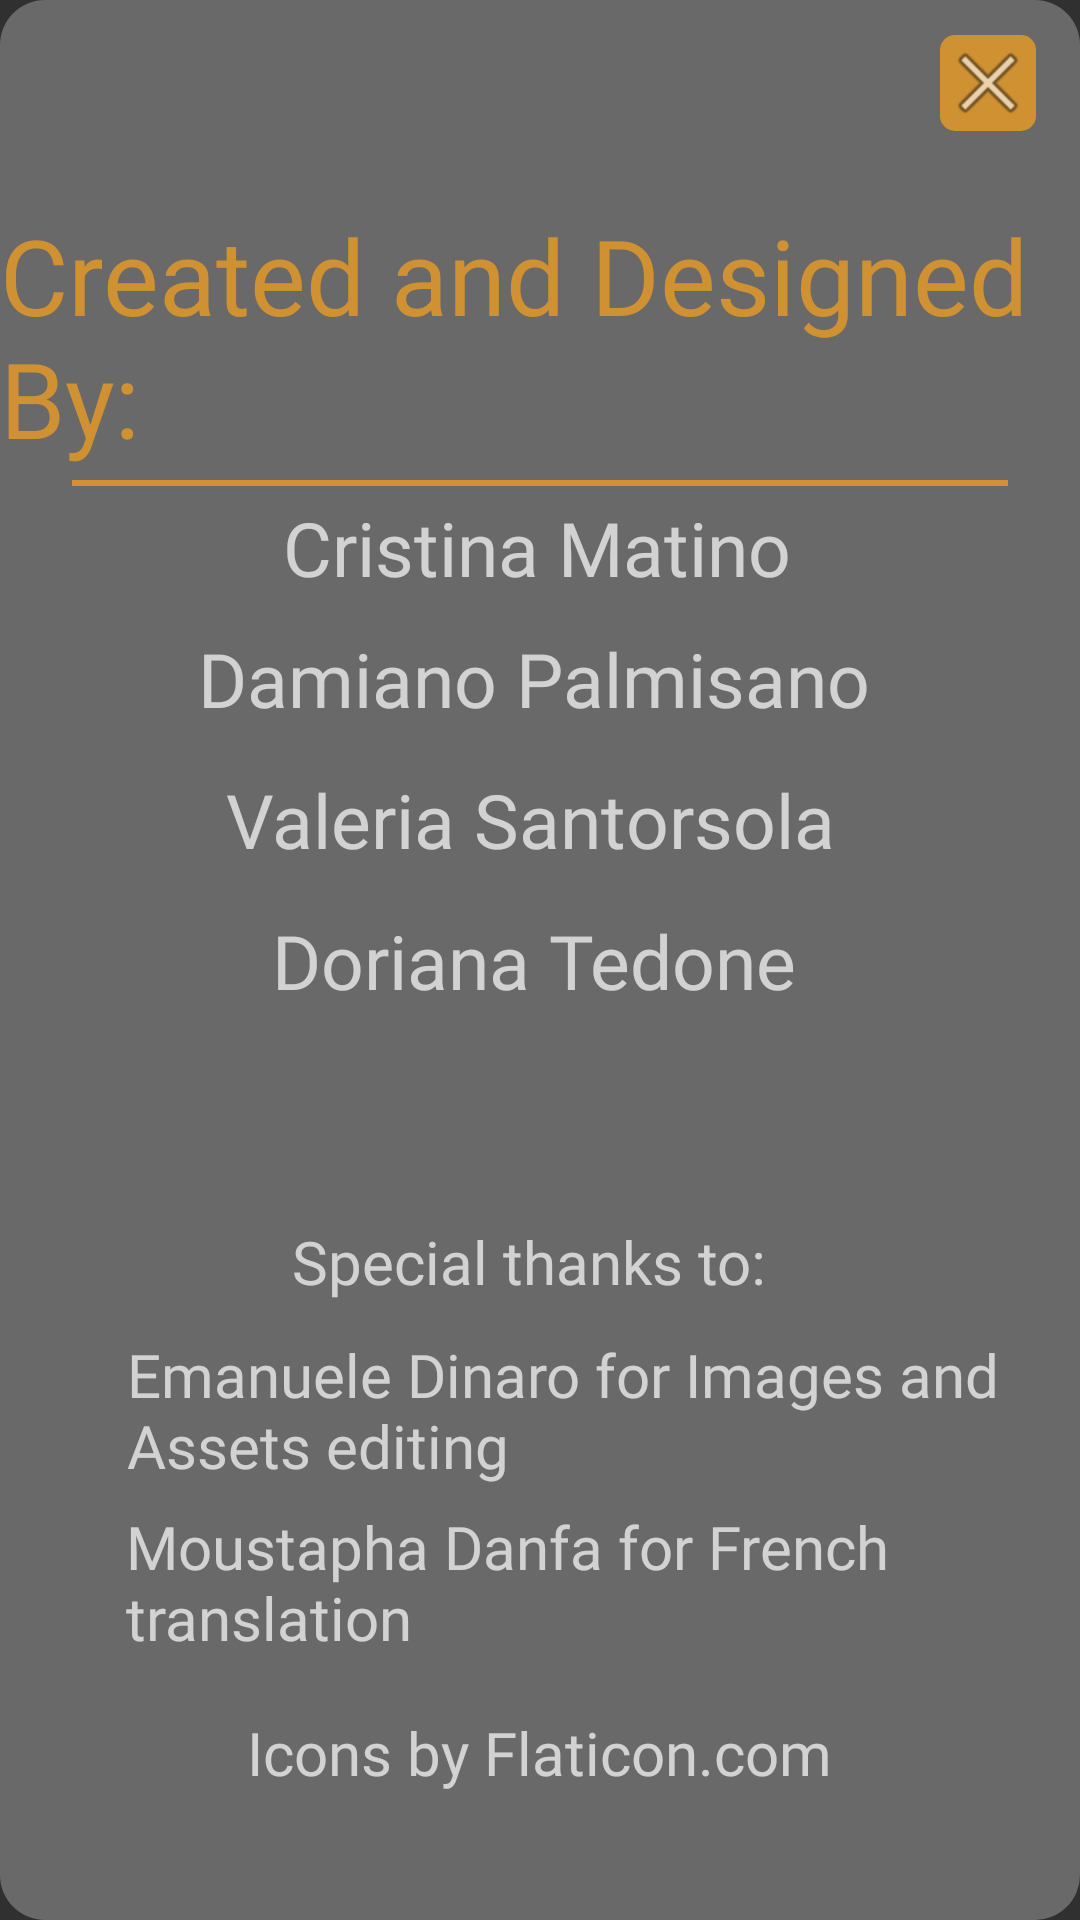

Screen size 1080 × 1920. Icon name, then its box in pixels as [x1, y1, x2, y2]:
close clear cancel: [940, 35, 1036, 131]
